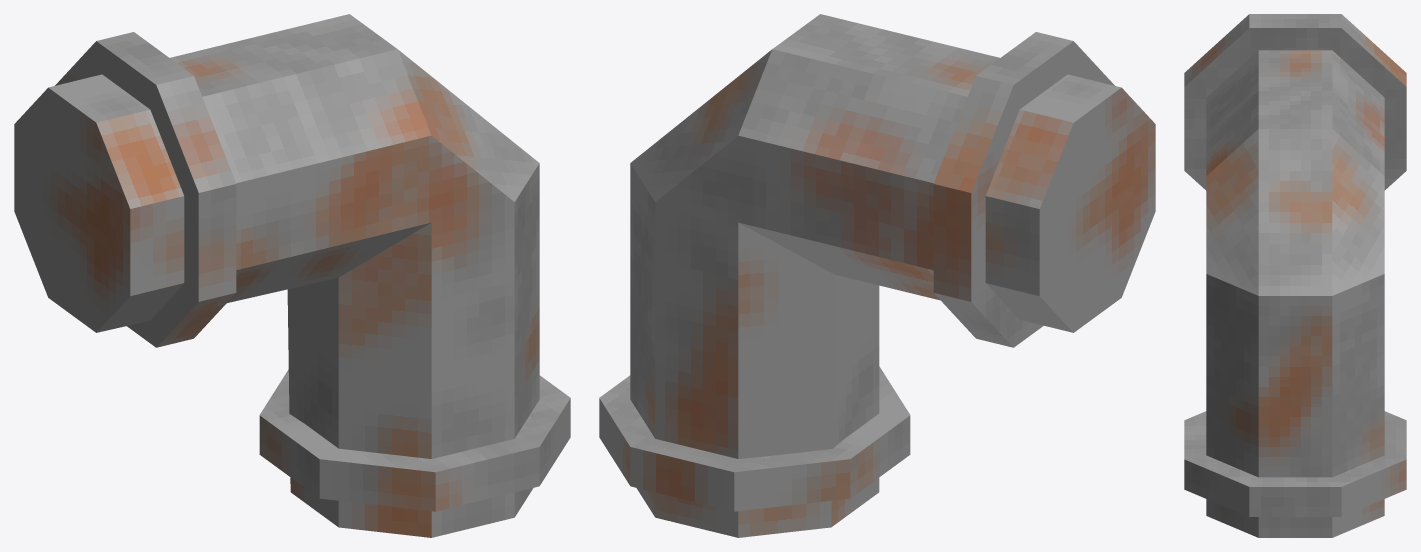
The model's file is pipe_turn.gltf.
3 views of the same model, side by side, from view 1: azimuth 30°, elevation 25°; view 2: azimuth 150°, elevation 25°; view 3: azimuth 270°, elevation 25° (orthographic). The views are drawn at different scales.
Visible parts, largest first — view 1: cylinder (×3); view 2: cylinder (×3); view 3: cylinder (×3).
Boxes of the visible parts, x1=… form: cylinder (×3): x1=14, y1=14, x2=570, y2=537; cylinder (×3): x1=599, y1=14, x2=1155, y2=537; cylinder (×3): x1=1184, y1=14, x2=1406, y2=537.
Size of the model in its own units: 2.33 by 2.34 by 1.25.
1 material, 1 textured.
